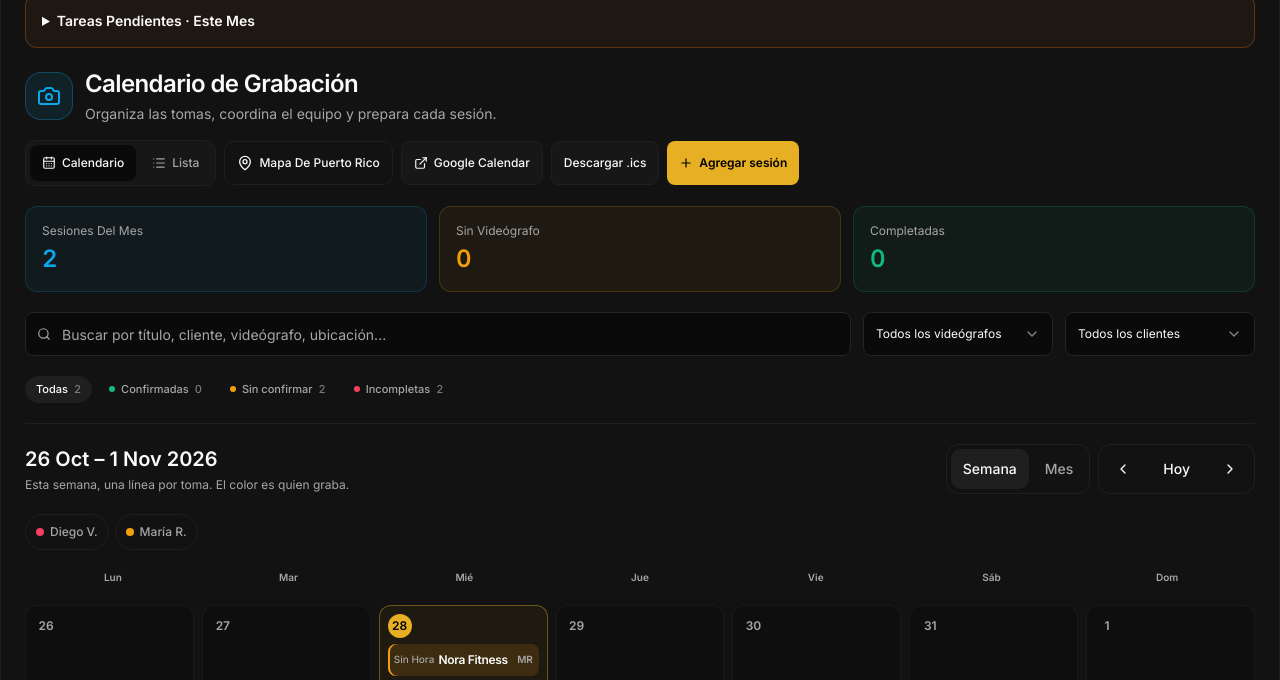
RecordingCalendarClient — premium redesign › la leyenda muestra quién graba y filtra al pulsarla
Expected: the button "María R." is shown, [115,514,198,550]
Click the button "Diego V.".
click(67, 532)  # box [25,514,109,550]
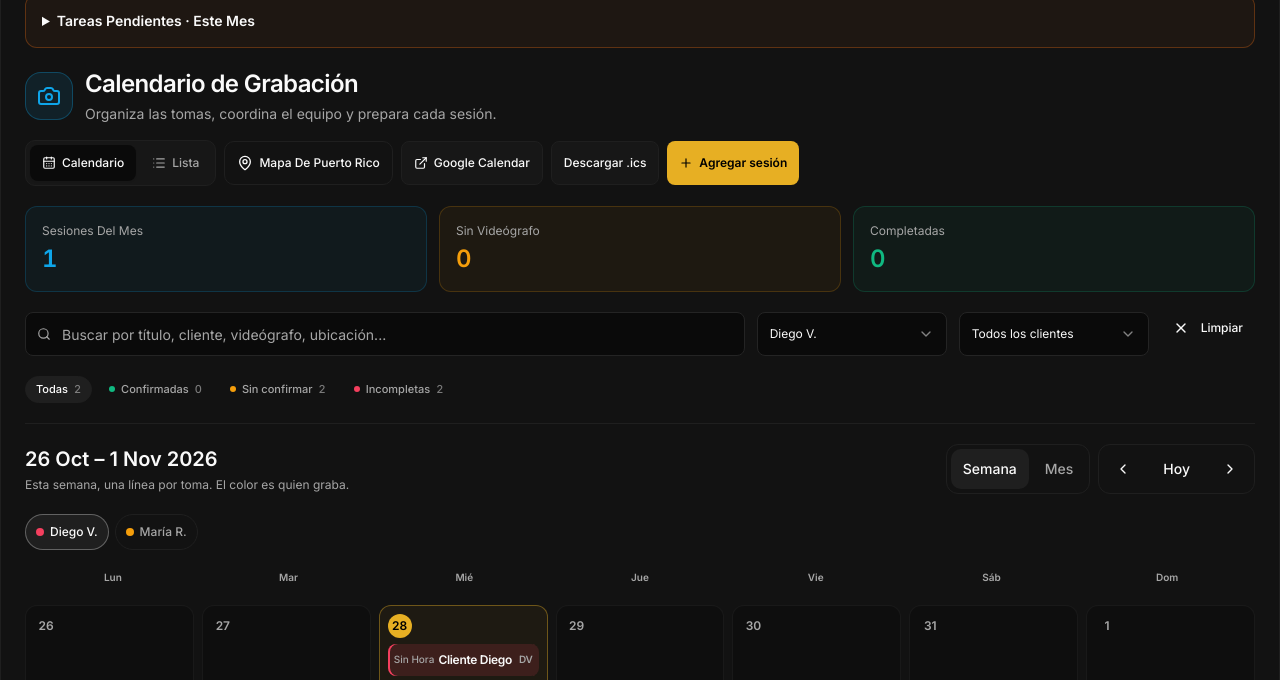
Expected: the text "Cliente Diego" is shown, [438,652,515,668]
Expected: the button "Nora Fitness" is gone
Click the button "Diego V.".
click(67, 532)  # box [25,514,109,550]
(page scrolled)
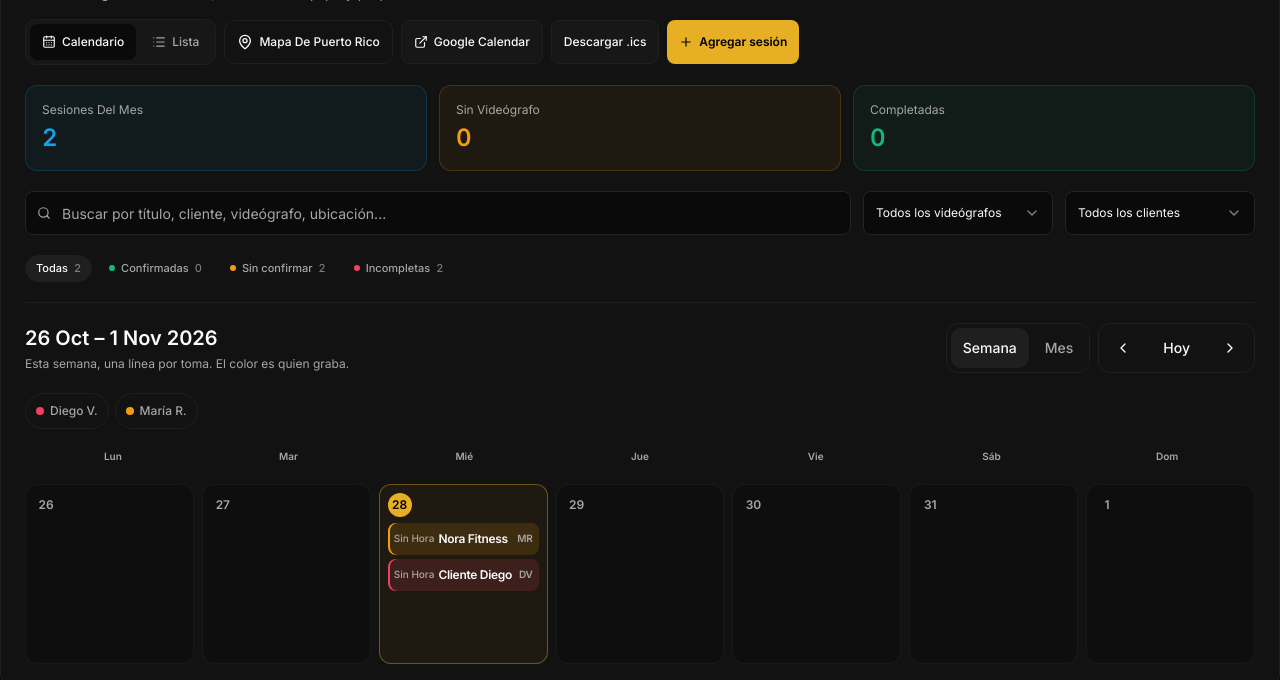
Expected: the text "Nora Fitness" is shown, [438,530,513,546]
